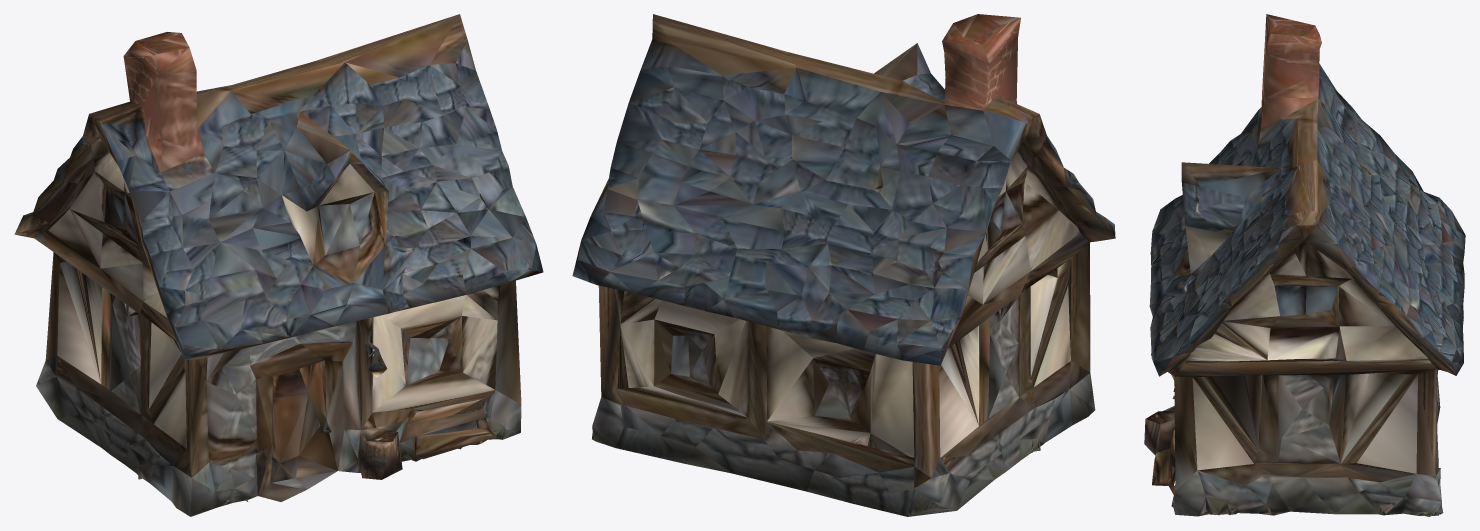
File: house_peasant_b_lod1.glb
The picture shows the model from 3 angles, left to right: view 1: azimuth 30°, elevation 25°; view 2: azimuth 150°, elevation 25°; view 3: azimuth 270°, elevation 25°; orthographic projection. The views are drawn at different scales.
Visible parts, largest first — view 1: Mesh_0; view 2: Mesh_0; view 3: Mesh_0.
Part boxes in pixels (x1,y1,x2,y2): Mesh_0: [14, 14, 543, 516]; Mesh_0: [572, 14, 1115, 516]; Mesh_0: [1144, 14, 1465, 516].
Bounding box in the file's own units: 1.7 × 1.85 × 1.46.
Materials: 1 (1 with a texture image).
